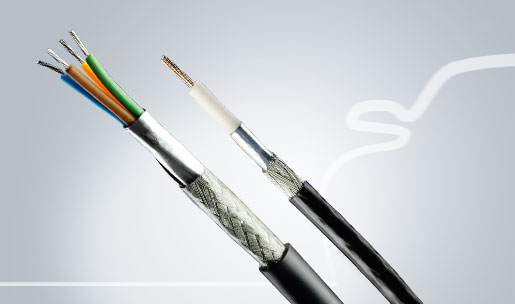Nonrec_Tangler: (23, 20, 425, 301)
